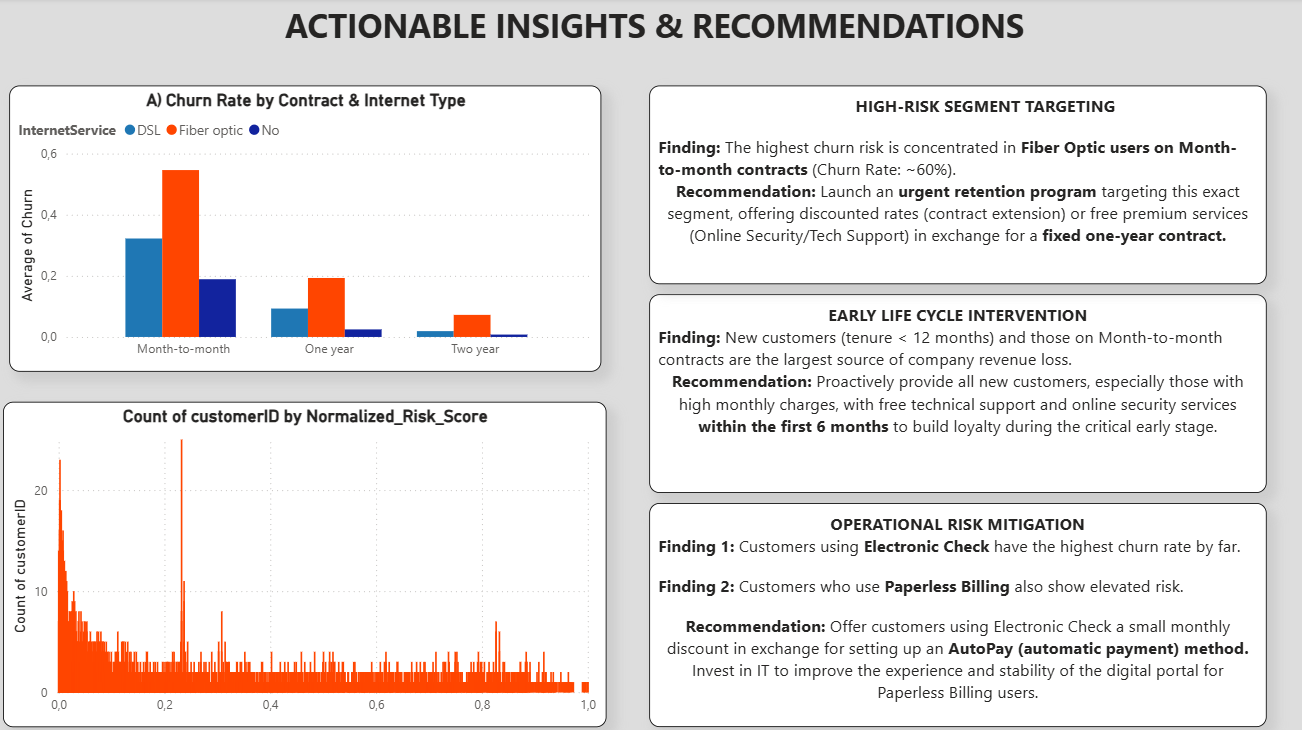

Layout of this report page (visuals, bound fields, positions):
{"tool":"powerbi","page":{"name":"3. Actionable Insights & Recommendations","canvas":[1280,720],"ordinal":2},"visuals":[{"type":"clusteredColumnChart","title":"A) Churn Rate by Contract & Internet Type","fields":{"Category":["telco_churn_final_V2.Contract"],"Series":["telco_churn_final_V2.InternetService"],"Y":["Avg(telco_churn_final_V2.Churn)"]},"box":[11,85.1,579.1,279.9],"z":0},{"type":"columnChart","fields":{"Y":["Count(telco_churn_final_V2.customerID)"],"Category":["telco_churn_final_V2.Division"]},"box":[5.5,395.2,590.1,318.4],"z":1000},{"type":"textbox","box":[637.1,289.8,604.1,194.4],"z":2000},{"type":"textbox","box":[5.5,0,1274.8,60.4],"z":3000},{"type":"textbox","box":[637.1,85.6,604.1,194.4],"z":4000},{"type":"textbox","box":[637.1,494,604.1,218.9],"z":5000}]}

Visuals, with their boxes in screenshot pixels (x1, y1, x2, y2), scaled from the page's 1280x720 canvas onto the 1302x730 screenshot:
"A) Churn Rate by Contract & Internet Type" clusteredColumnChart: [11,86,600,370]
columnChart - Count(telco_churn_final_V2.customerID) x telco_churn_final_V2.Division: [6,401,606,724]
textbox: [648,294,1263,491]
textbox: [6,0,1301,61]
textbox: [648,87,1263,284]
textbox: [648,501,1263,723]
